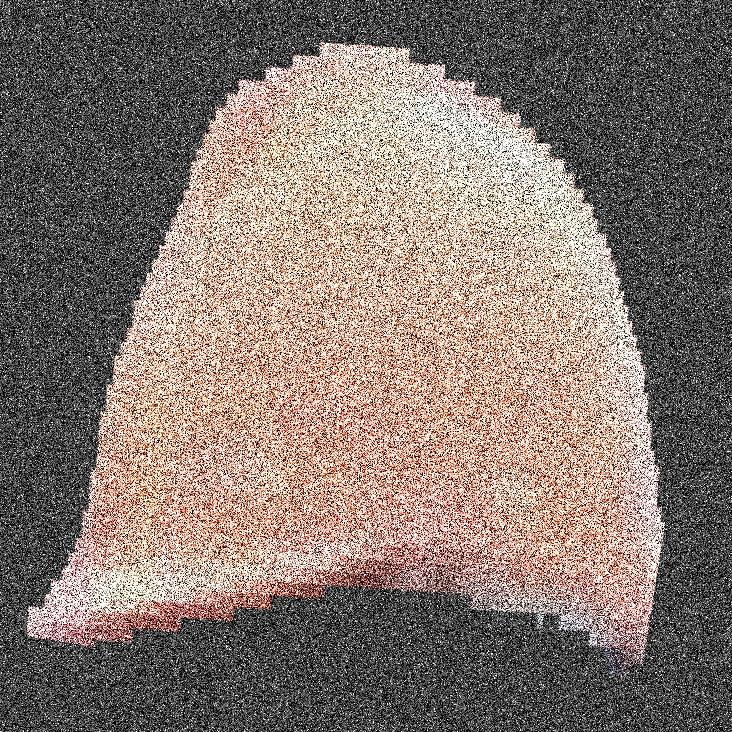Capacete: (176, 0, 621, 731)
